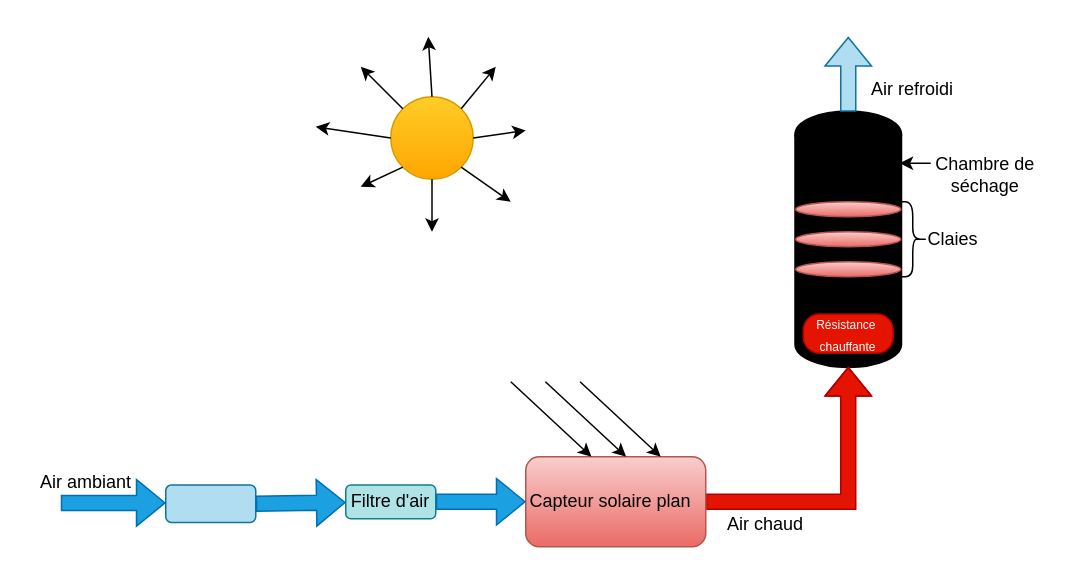
The diagram is 1082 pixels wide and 573 high, and some of its shapes have lost their labels. Here are the shapes that lost their labels. From the top down, the centre of each, then its label:
(x=431, y=137): Soleil
(x=210, y=502): Ventilateur
